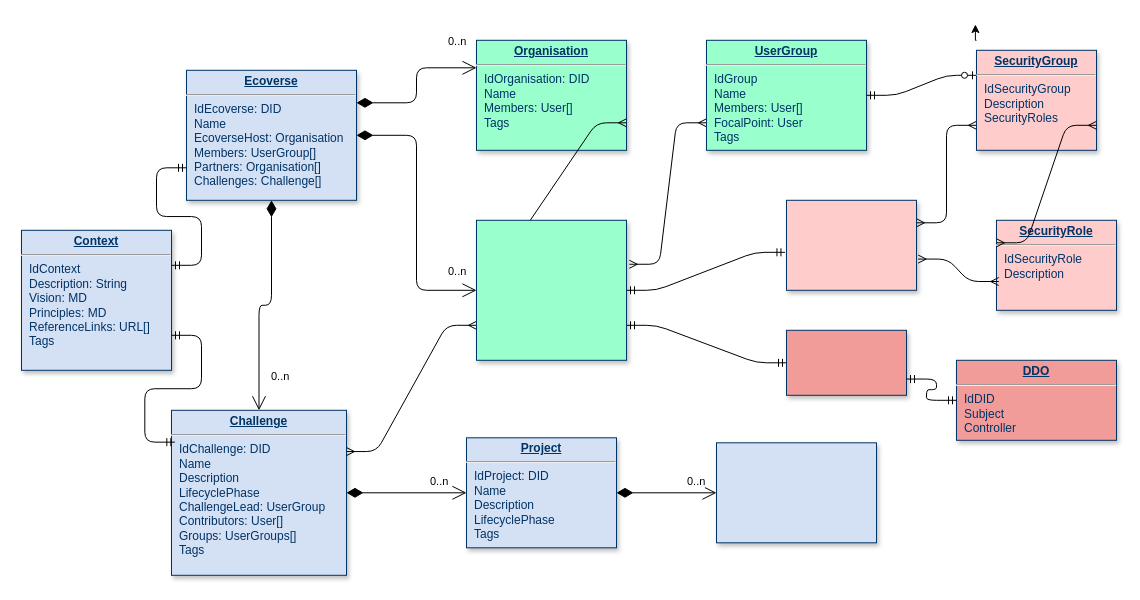
This 1140x600 diagram has some shape labels left out. Here are the shapes that lost their labels. From the top down, the centre of each, then its label:
point 852,246: Account IdAccount SecurityRoles SecurityGroups
point 552,291: User IdUser: DID Account FirstName LastName Email Tags
point 847,363: DID IdDID
point 797,494: Agreement IdAgreement: DID Name Description Tags
